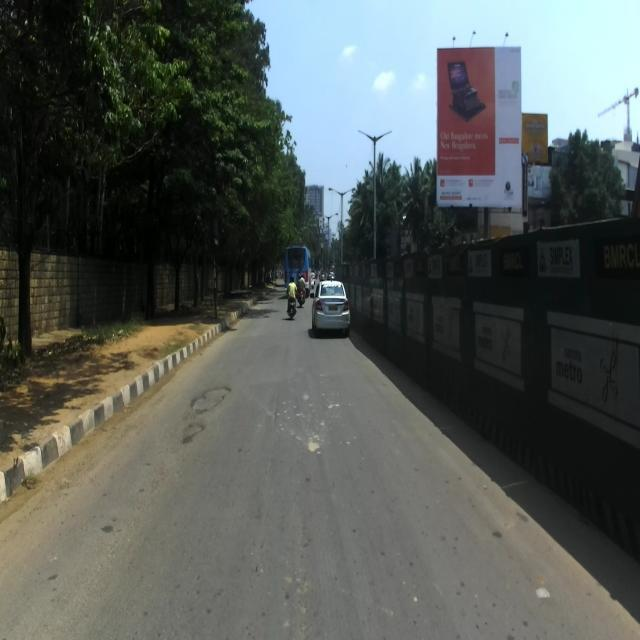pothole: (184, 365, 252, 472)
